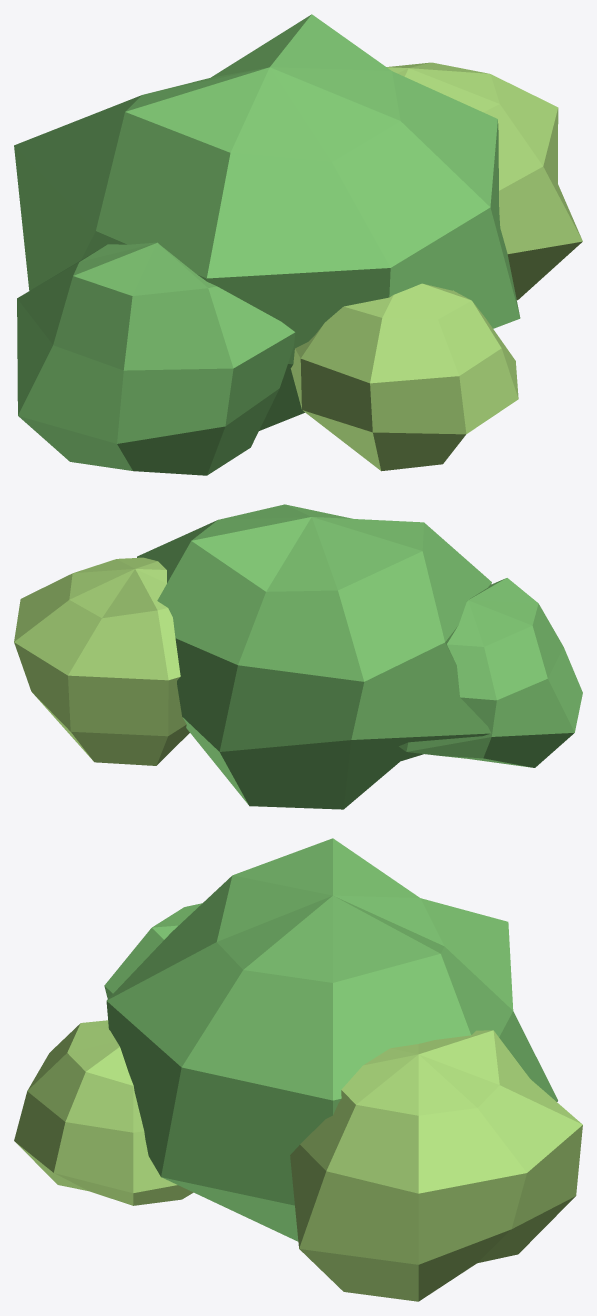
File: bush.glb
The picture shows the model from 3 angles, top to bottom: view 1: azimuth 30°, elevation 25°; view 2: azimuth 150°, elevation 25°; view 3: azimuth 270°, elevation 25°; orthographic projection. The views are drawn at different scales.
Visible parts, largest first — view 1: bush_m; view 2: bush_m; view 3: bush_m.
Boxes of the visible parts, left/top/right/bottom form: bush_m: left=14, top=14, right=582, bottom=475; bush_m: left=14, top=504, right=582, bottom=809; bush_m: left=14, top=838, right=582, bottom=1301.
Size of the model in its own units: 2.39 by 1.2 by 1.99.
